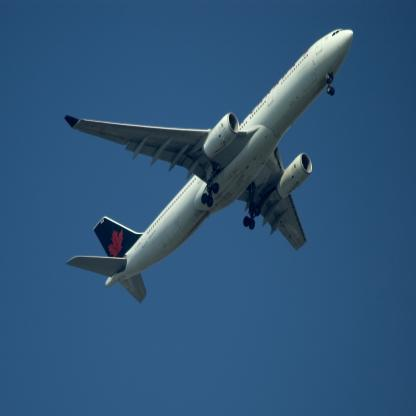CIV_Plane: (62, 25, 356, 308)
